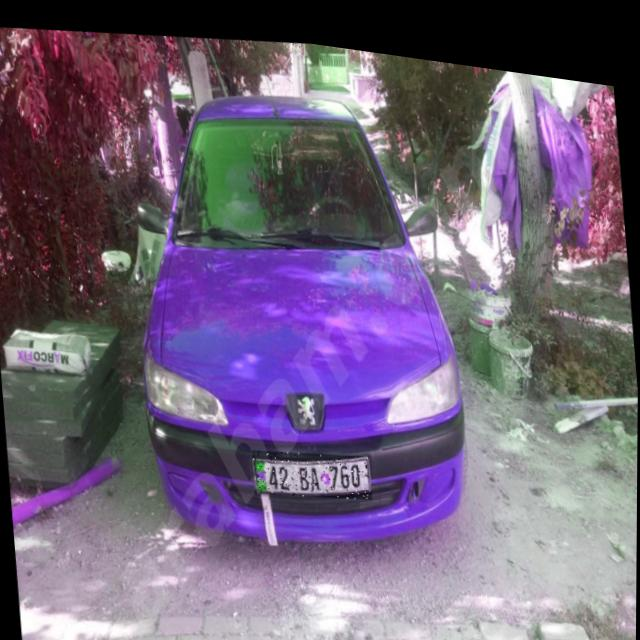license_plate: (252, 432, 373, 499)
